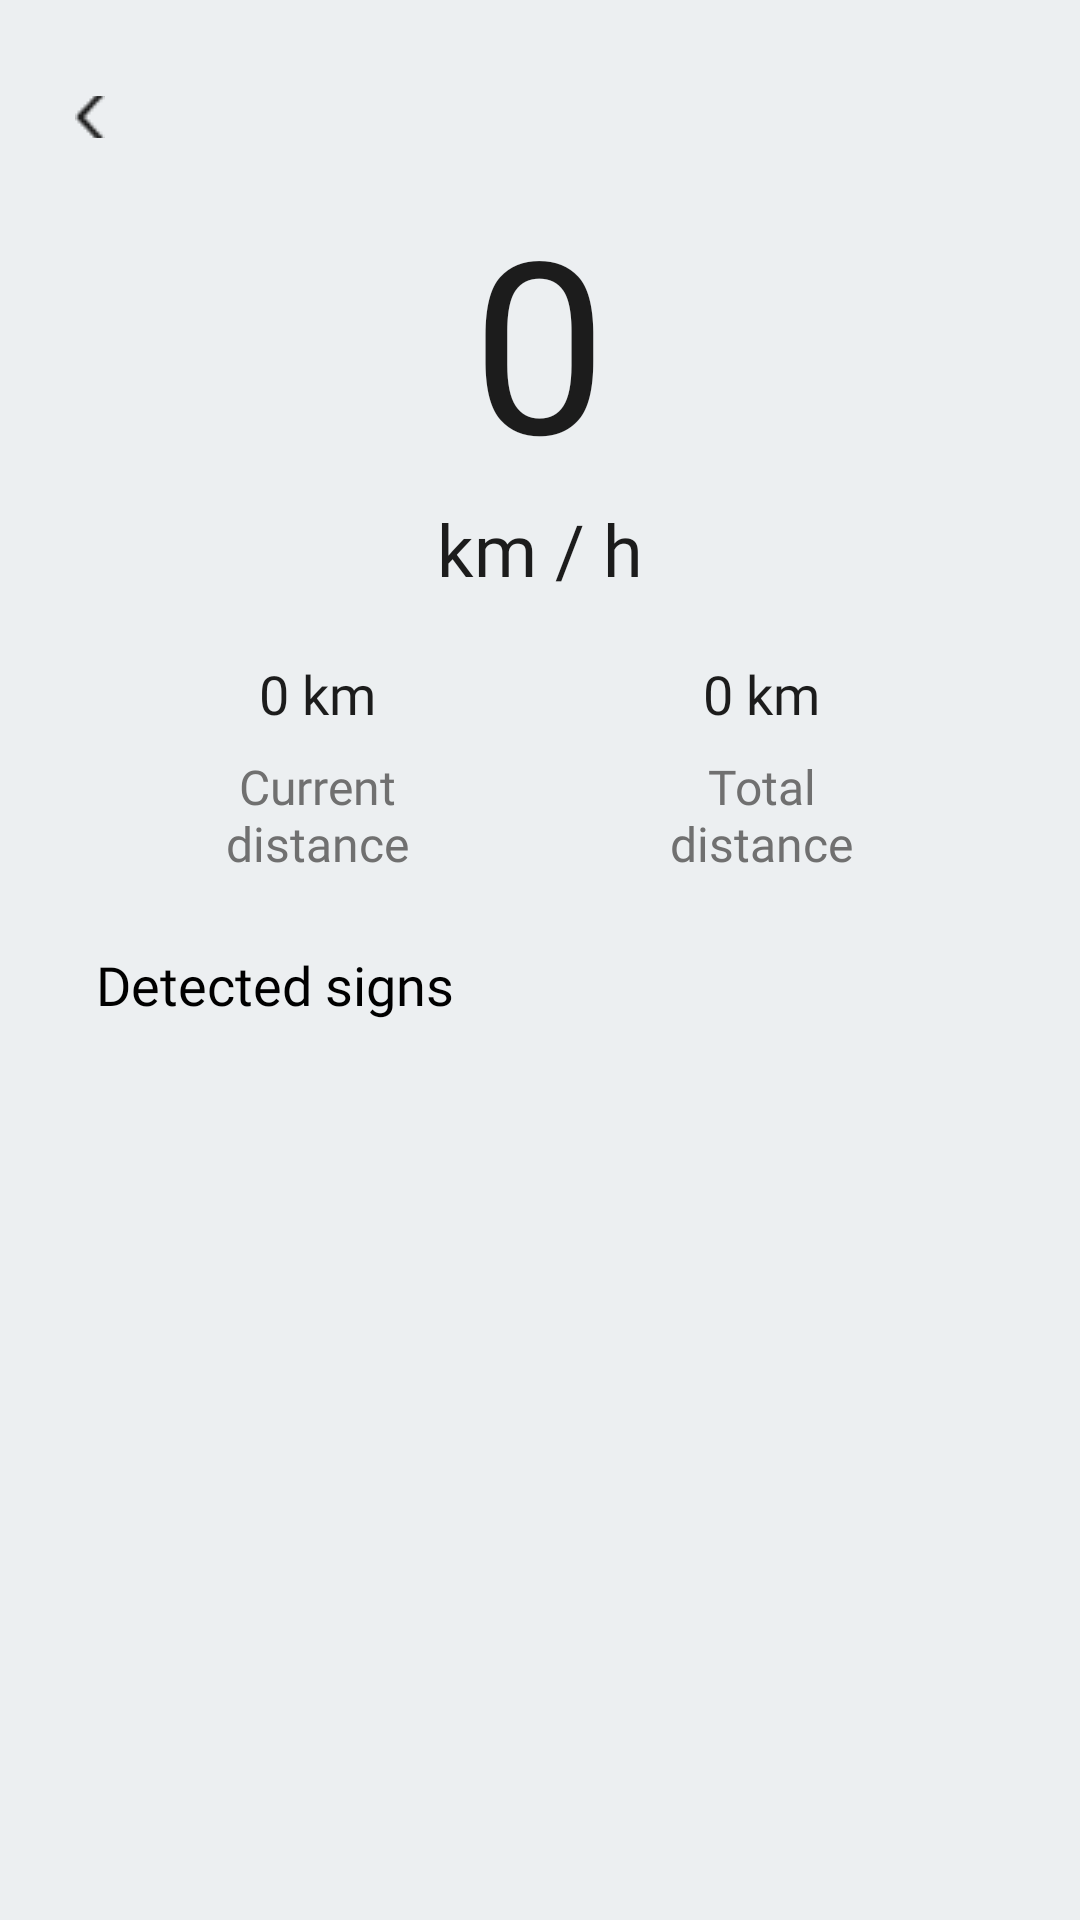

Icons on this 1080px×1920px Android screen, each with its box as region(x1, y1, x2, y2):
left arrow: region(75, 96, 105, 138)
